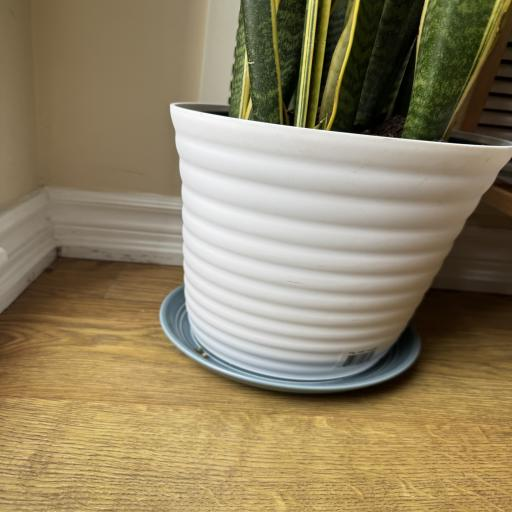Plant Pot: (170, 99, 512, 377)
